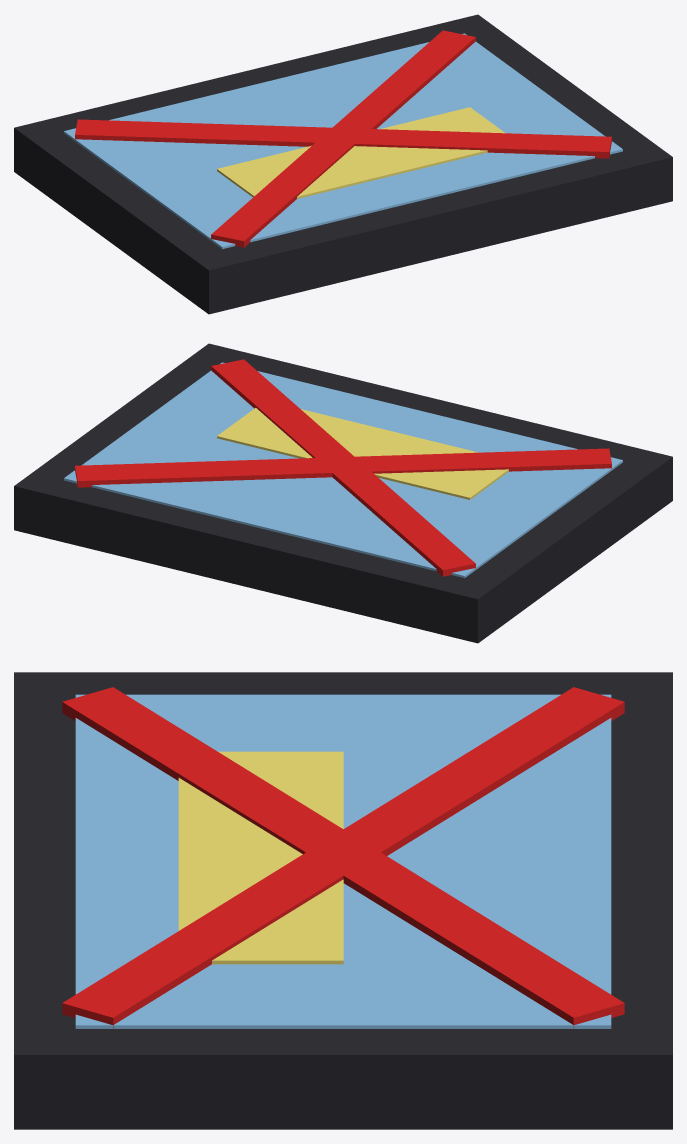
File: rival_photo.glb
3 renders of one model, top to bottom at view 1: azimuth 30°, elevation 25°; view 2: azimuth 150°, elevation 25°; view 3: azimuth 270°, elevation 25°, orthographic. The views are drawn at different scales.
Parts seen in each view (by area): view 1: frame_photo_frame, photo_photo_shop, cross_photo_cross, shop_photo_awning; view 2: frame_photo_frame, photo_photo_shop, cross_photo_cross, shop_photo_awning; view 3: frame_photo_frame, photo_photo_shop, cross_photo_cross, shop_photo_awning.
Part boxes in pixels (x1,y1,x2,y2): frame_photo_frame: (14,14,672,314); photo_photo_shop: (64,33,622,249); cross_photo_cross: (75,30,611,247); shop_photo_awning: (217,107,505,198); frame_photo_frame: (14,343,672,643); photo_photo_shop: (64,362,622,578); cross_photo_cross: (75,359,611,576); shop_photo_awning: (217,408,508,499); frame_photo_frame: (14,672,672,1129); photo_photo_shop: (75,694,611,1028); cross_photo_cross: (62,687,624,1028); shop_photo_awning: (178,751,343,964).
Size of the model in its own units: 0.22 by 0.026 by 0.16.
